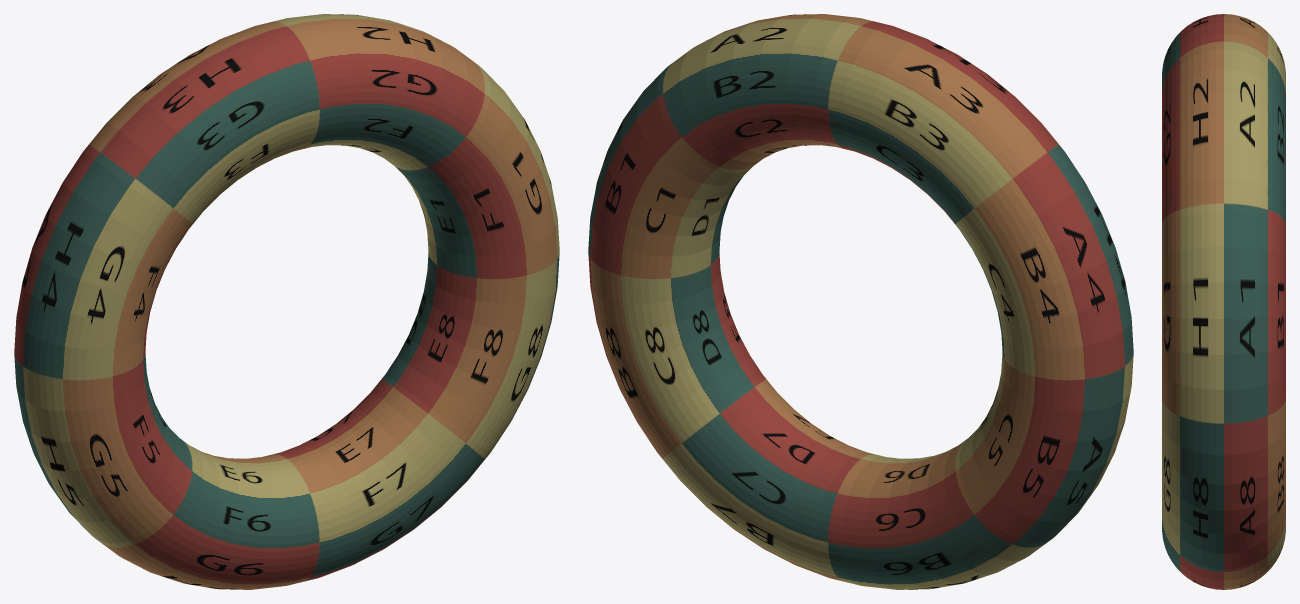
Rendered from texture_torus_R28_r22.glb.
The picture shows the model from 3 angles, left to right: view 1: azimuth 30°, elevation 25°; view 2: azimuth 150°, elevation 25°; view 3: azimuth 270°, elevation 25°; orthographic projection. The views are drawn at different scales.
Parts seen in each view (by area): view 1: world; view 2: world; view 3: world.
Part boxes in pixels (<box>): world: <box>14,14,559,589</box>; world: <box>588,14,1133,589</box>; world: <box>1162,14,1285,589</box>.
Size of the model in its own units: 36.53 by 36.46 by 7.85.
Materials: 1 (1 with a texture image).
